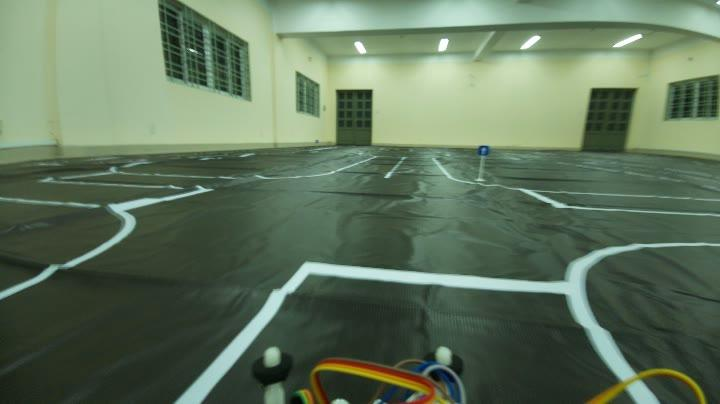onewayroad: (474, 140, 492, 164)
